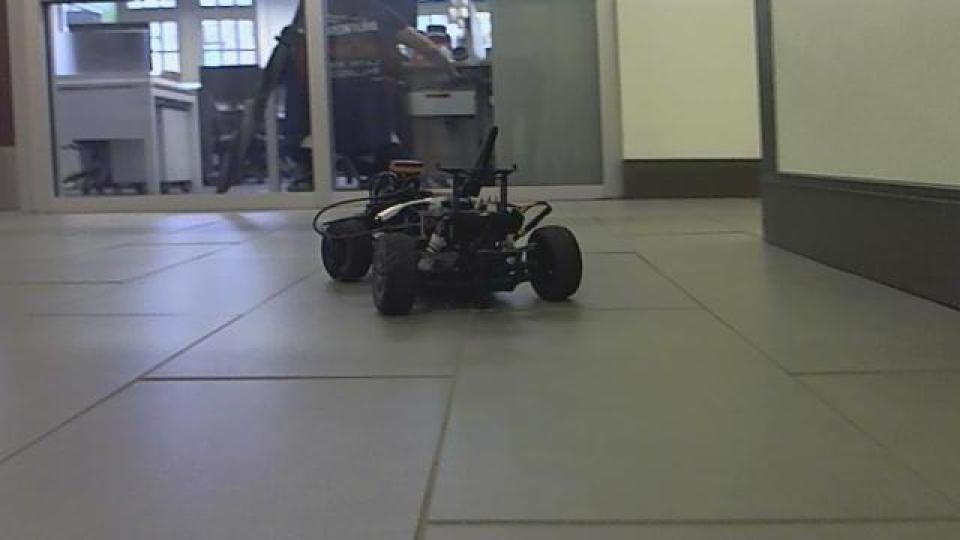car: (309, 123, 585, 318)
